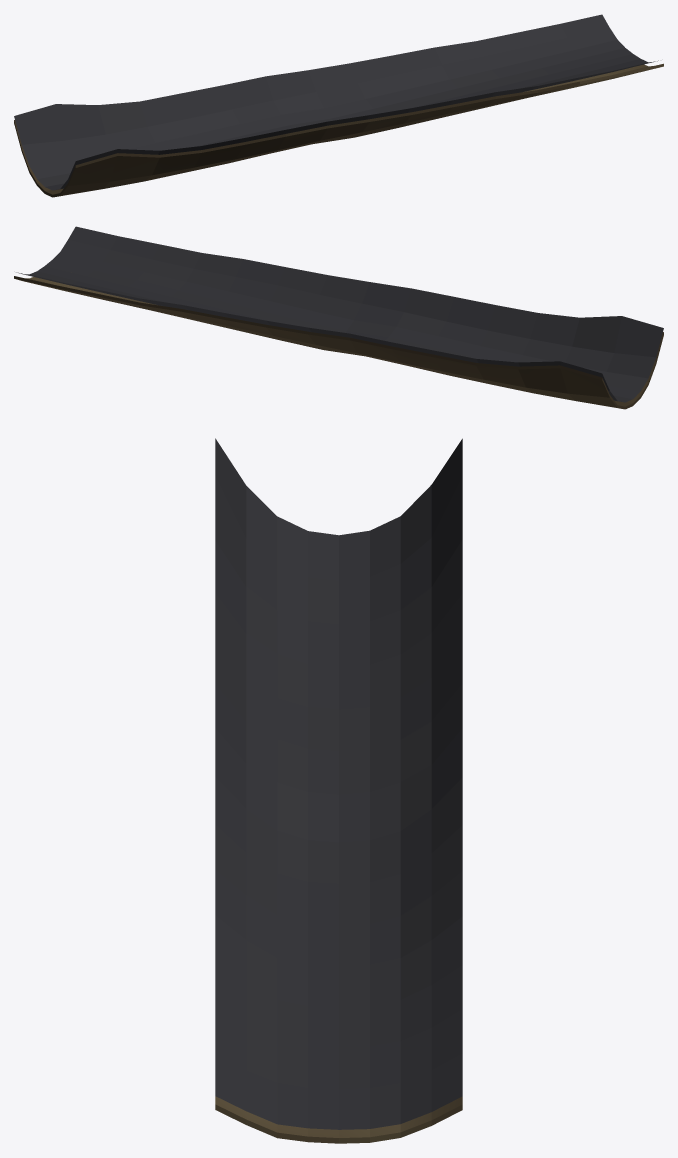
The model's file is fh_bay_bomber_2.glb.
3 renders of one model, top to bottom at view 1: azimuth 30°, elevation 25°; view 2: azimuth 150°, elevation 25°; view 3: azimuth 270°, elevation 25°, orthographic. The views are drawn at different scales.
Parts seen in each view (by area): view 1: bay_well_l, bay_r, bay_well_r; view 2: bay_well_r, bay_l, bay_well_l; view 3: bay_well_l, bay_well_r, bay_r, bay_l.
Boxes of the visible parts, left/top/right/bottom form: bay_well_l: left=14, top=14, right=632, bottom=186; bay_r: left=45, top=63, right=663, bottom=197; bay_well_r: left=45, top=54, right=658, bottom=190; bay_well_r: left=45, top=226, right=663, bottom=398; bay_l: left=14, top=276, right=632, bottom=409; bay_well_l: left=16, top=266, right=632, bottom=402; bay_well_l: left=339, top=438, right=462, bottom=1129; bay_well_r: left=215, top=438, right=338, bottom=1129; bay_r: left=215, top=1096, right=338, bottom=1143; bay_l: left=339, top=1096, right=462, bottom=1143.
Size of the model in its own units: 0.33 by 0.0364 by 0.06.
